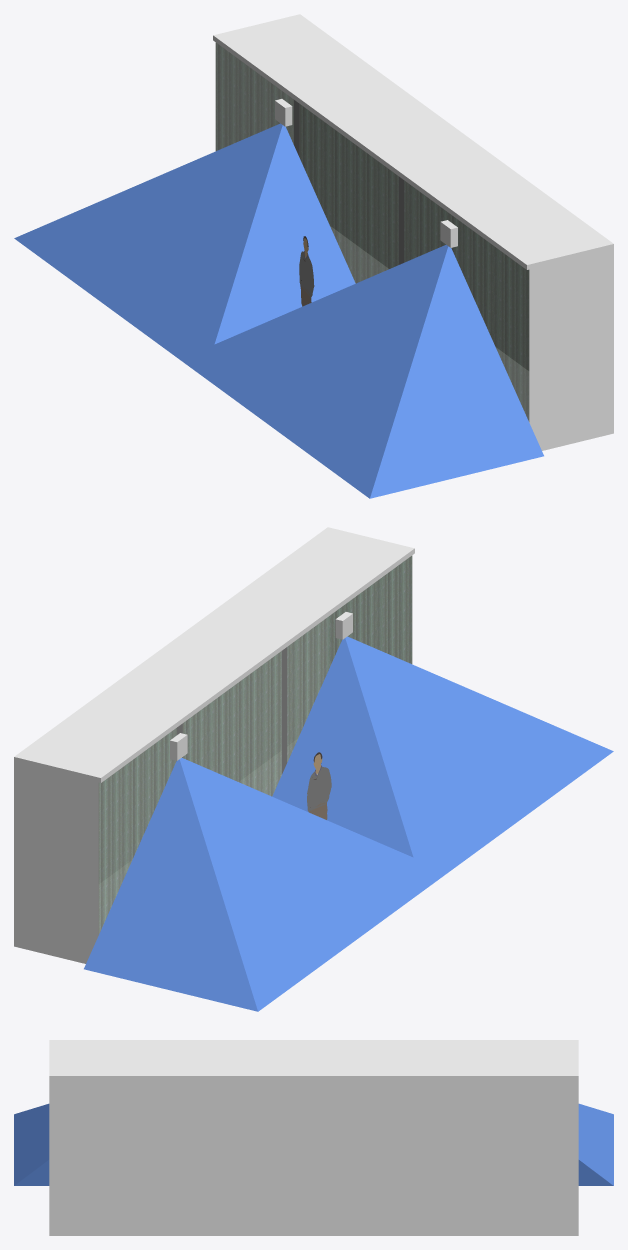
File: set5.obj
3 views of the same model, one above another, from view 1: azimuth 30°, elevation 25°; view 2: azimuth 150°, elevation 25°; view 3: azimuth 270°, elevation 25° (orthographic). The views are drawn at different scales.
Visible parts, largest first — view 1: Mesh11 Componente_22_1 Componente_23_1 Model, Mesh3 Componente_5_1 Group1 Componente_23_1 Model, Mesh7 Componente_5_2 Group2 Componente_23_1 Model, Mesh9 Derrick1 Componente_23_1 Model; view 2: Mesh11 Componente_22_1 Componente_23_1 Model, Mesh7 Componente_5_2 Group2 Componente_23_1 Model, Mesh3 Componente_5_1 Group1 Componente_23_1 Model, Mesh9 Derrick1 Componente_23_1 Model; view 3: Mesh11 Componente_22_1 Componente_23_1 Model, Mesh3 Componente_5_1 Group1 Componente_23_1 Model, Mesh7 Componente_5_2 Group2 Componente_23_1 Model.
Boxes of the visible parts, x1=… form: Mesh11 Componente_22_1 Componente_23_1 Model: x1=213, y1=14, x2=613, y2=450; Mesh3 Componente_5_1 Group1 Componente_23_1 Model: x1=204, y1=245, x2=543, y2=498; Mesh7 Componente_5_2 Group2 Componente_23_1 Model: x1=14, y1=123, x2=355, y2=377; Mesh9 Derrick1 Componente_23_1 Model: x1=299, y1=236, x2=314, y2=306; Mesh11 Componente_22_1 Componente_23_1 Model: x1=14, y1=527, x2=414, y2=963; Mesh7 Componente_5_2 Group2 Componente_23_1 Model: x1=84, y1=758, x2=423, y2=1011; Mesh3 Componente_5_1 Group1 Componente_23_1 Model: x1=272, y1=636, x2=613, y2=890; Mesh9 Derrick1 Componente_23_1 Model: x1=307, y1=752, x2=331, y2=819; Mesh11 Componente_22_1 Componente_23_1 Model: x1=49, y1=1040, x2=578, y2=1235; Mesh3 Componente_5_1 Group1 Componente_23_1 Model: x1=14, y1=1103, x2=49, y2=1185; Mesh7 Componente_5_2 Group2 Componente_23_1 Model: x1=578, y1=1103, x2=613, y2=1185.
Size of the model in its own units: 4390 by 3000 by 10203.
